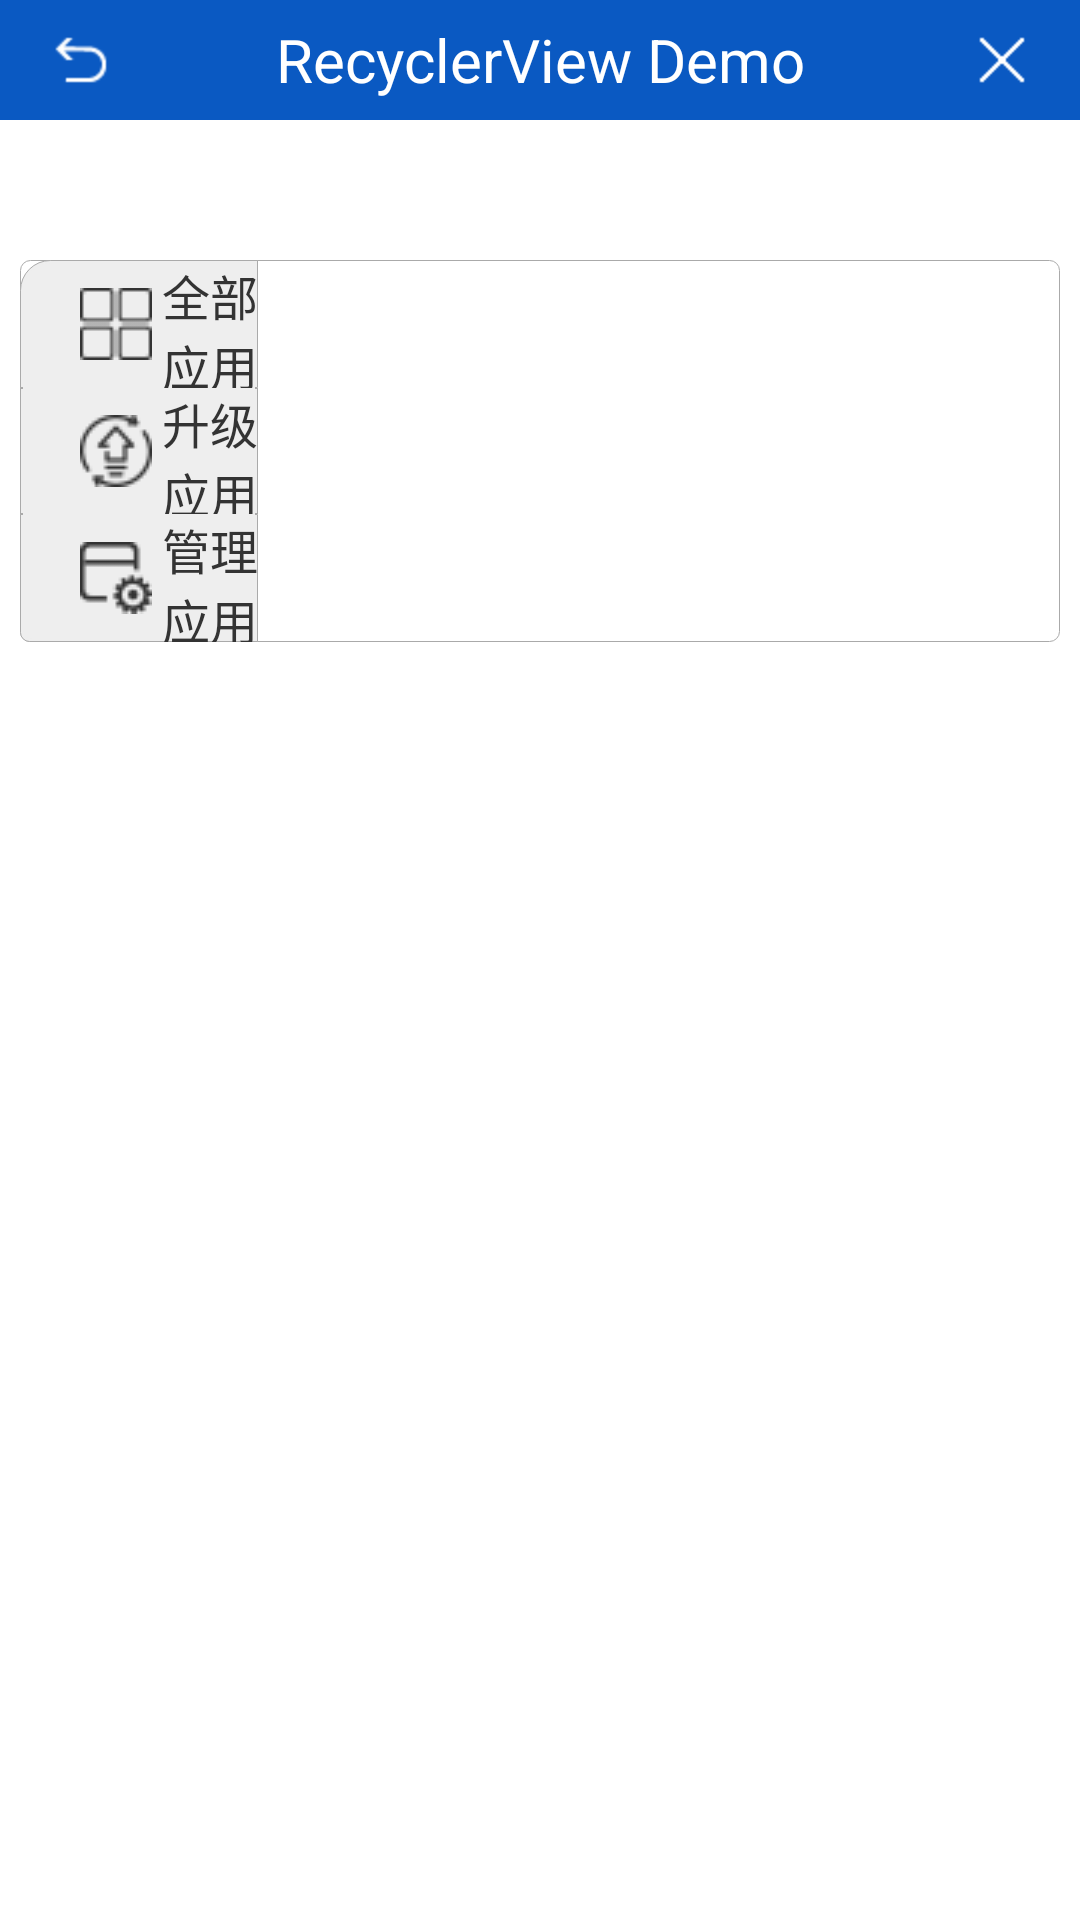

Icons on this 1080*1920 Android screen, each with its box as {"x1": x1, "y1": y1, "x2": x2, "y2": y2}:
back: {"x1": 55, "y1": 37, "x2": 107, "y2": 83}
close: {"x1": 979, "y1": 37, "x2": 1025, "y2": 83}
